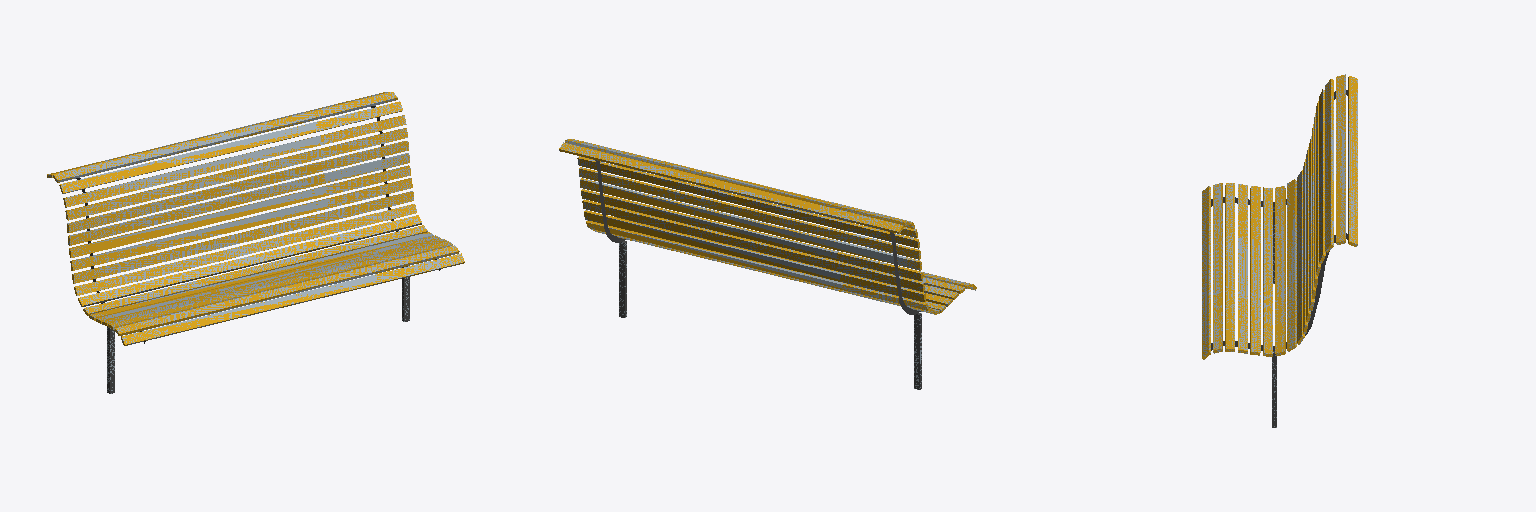
Rendered from banco2.obj.
The picture shows the model from 3 angles: view 1: azimuth 30°, elevation 25°; view 2: azimuth 150°, elevation 25°; view 3: azimuth 270°, elevation 25°; orthographic projection.
Visible parts, largest first — view 1: banco2; view 2: banco2; view 3: banco2.
Boxes of the visible parts, x1=… form: banco2: x1=47, y1=92, x2=464, y2=393; banco2: x1=559, y1=139, x2=976, y2=389; banco2: x1=1202, y1=74, x2=1357, y2=427.
Bounding box in the file's own units: 1.84 × 1.02 × 0.733.